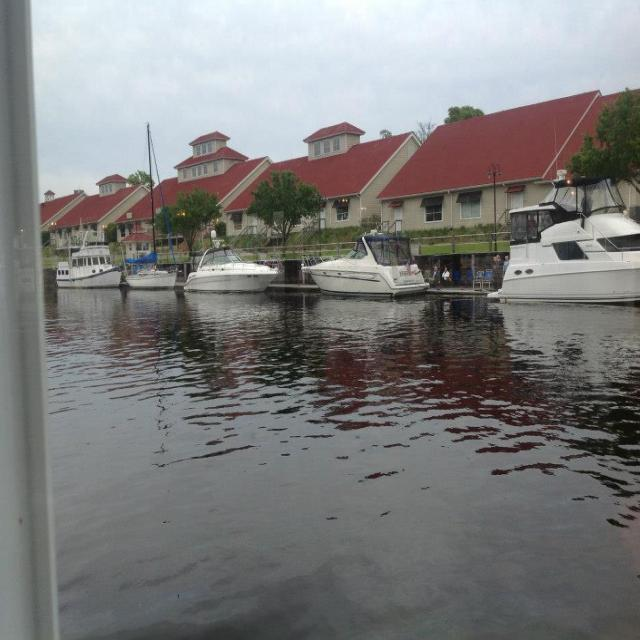houseboat: (491, 185, 640, 308), (308, 230, 428, 298), (181, 232, 278, 292), (53, 235, 119, 286)
sailboat: (120, 125, 178, 289)
